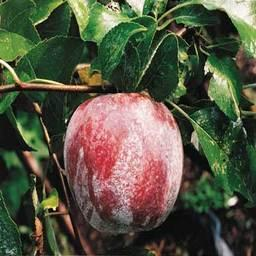apple: (63, 94, 183, 233)
